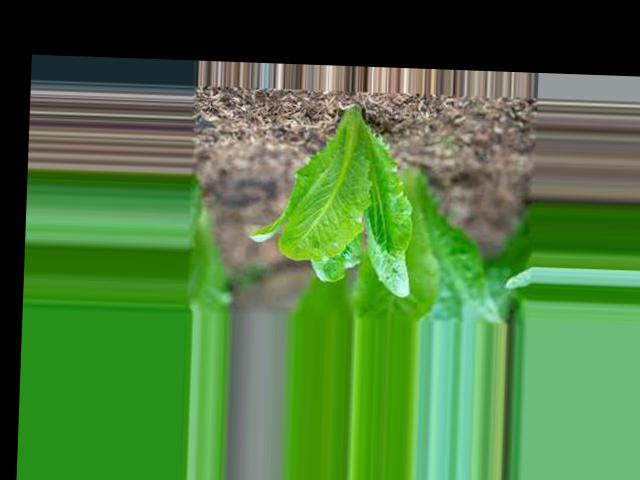lettuce: (267, 103, 405, 283)
